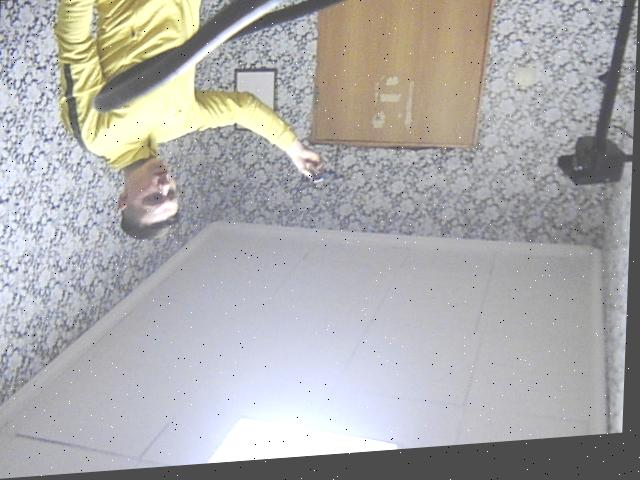drone: (285, 169, 349, 197)
